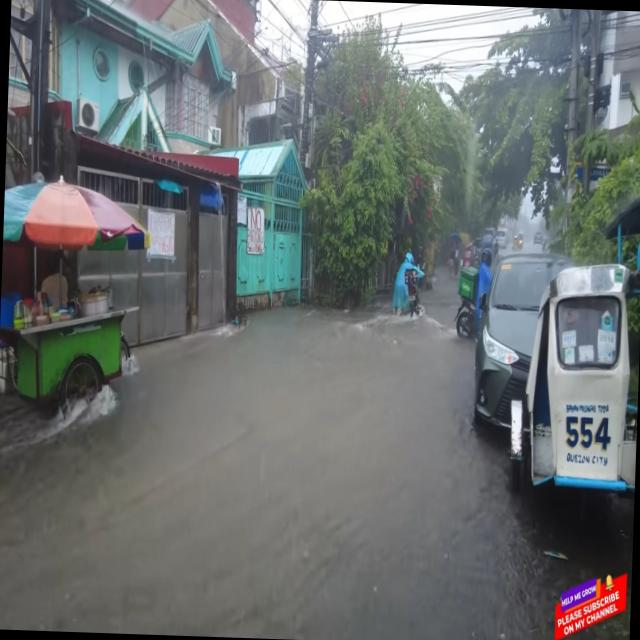half: (478, 246, 494, 270), (402, 248, 416, 268)
